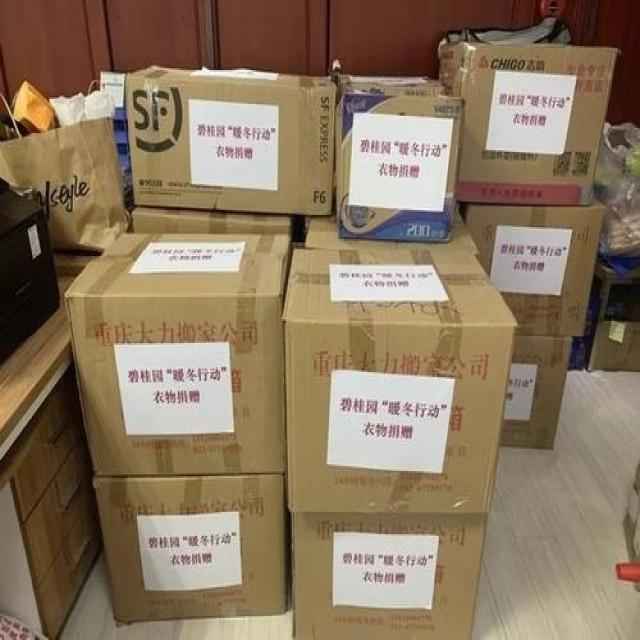box: (283, 248, 517, 514), (65, 232, 292, 472), (129, 62, 337, 216), (93, 475, 286, 623), (438, 46, 617, 203), (292, 511, 485, 638), (464, 187, 604, 339), (329, 99, 464, 241), (304, 200, 480, 254), (498, 334, 575, 450), (584, 257, 638, 373), (132, 202, 292, 234), (338, 72, 449, 97), (569, 337, 592, 370)
